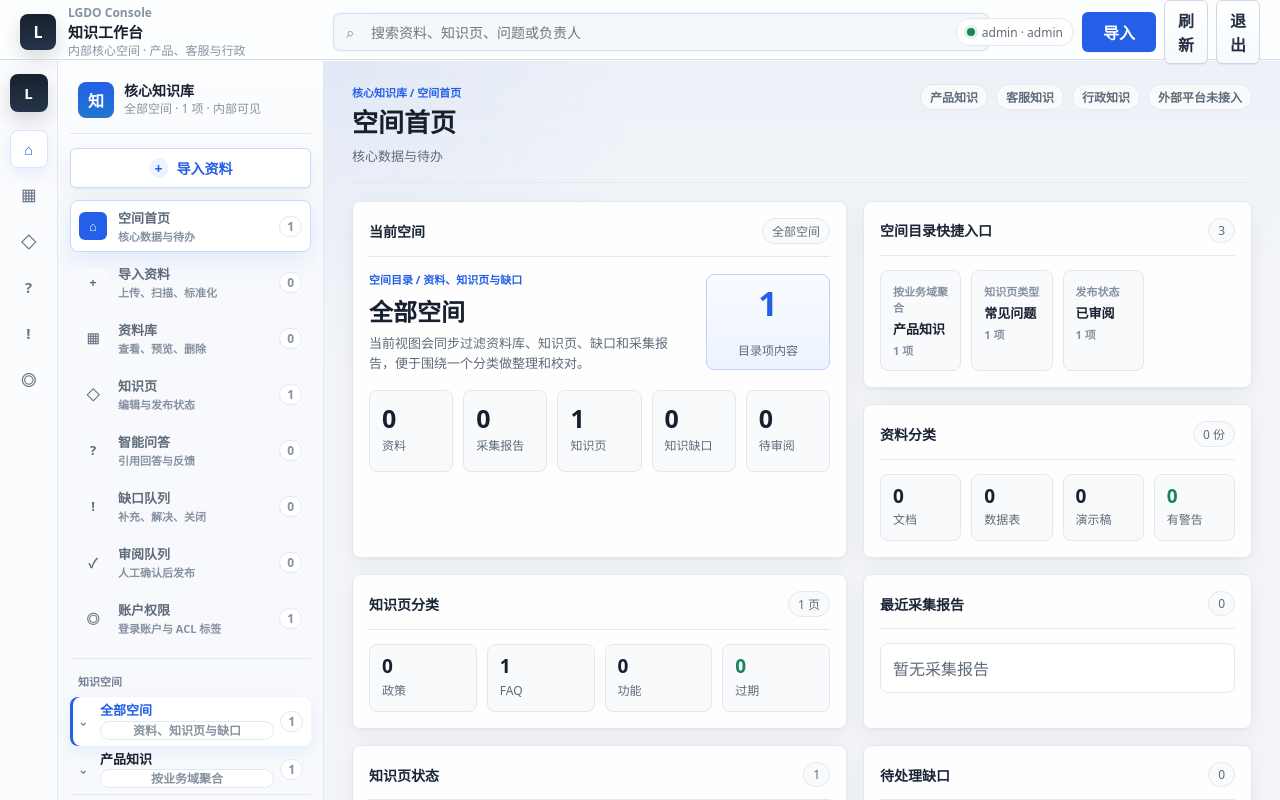
Test: App vault integration › cancels a scheduled reconcile poll on logout
Expected: the text "LGDO Console" is shown, 68,4 -> 152,21
Click the button titled "知识".
click(28, 241)  # box 10,222 -> 48,260
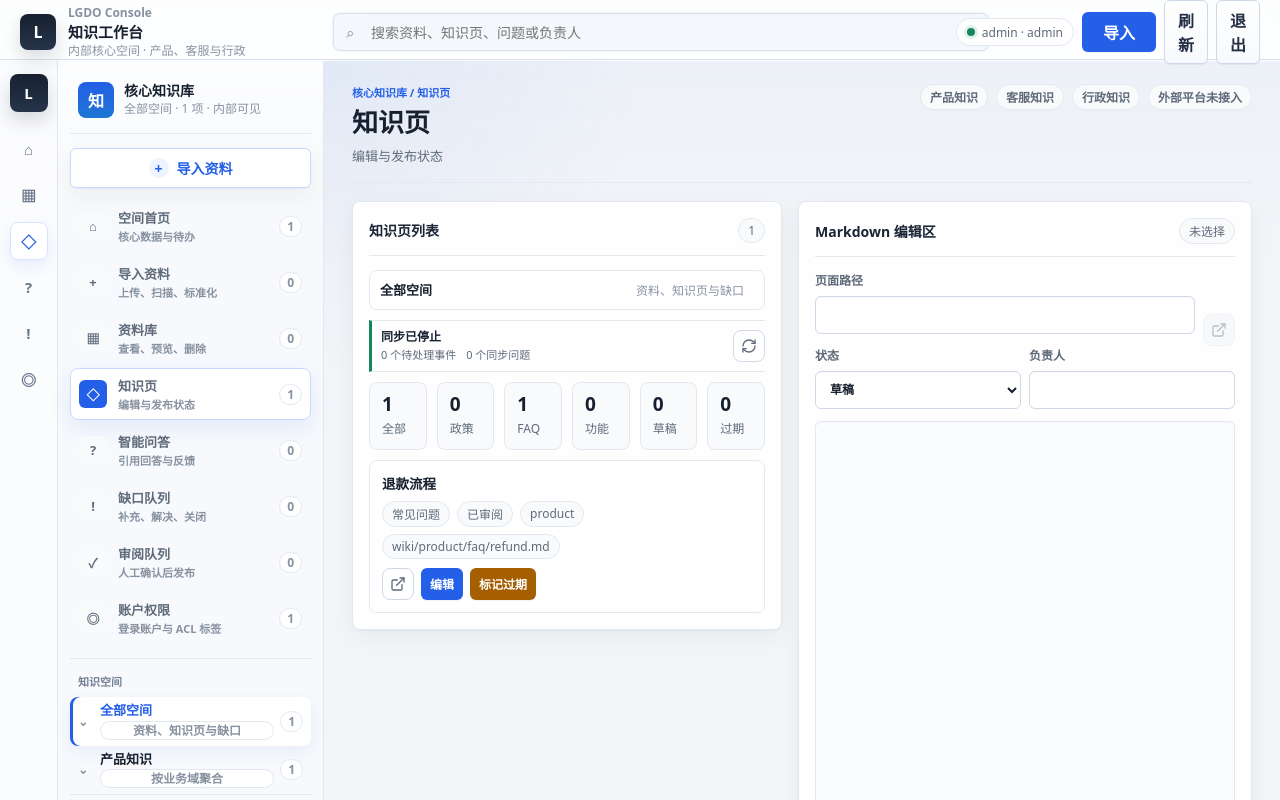
Click the button named "立即对账".
click(749, 346)  # box 733,330 -> 765,362
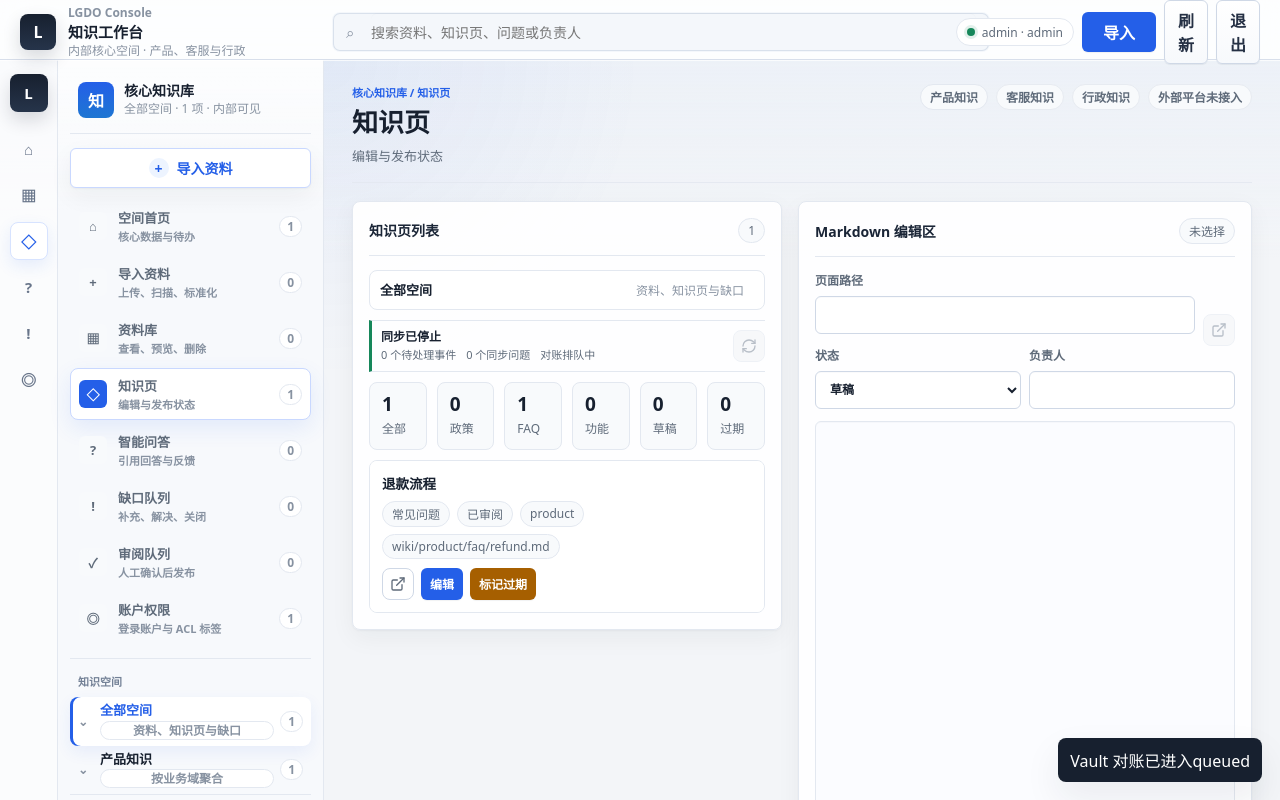
Now the text "对账排队中" is shown, box 540,347 -> 595,363
Click the button "退出".
click(1238, 32)  # box 1216,0 -> 1260,64
Wait 1000 ms
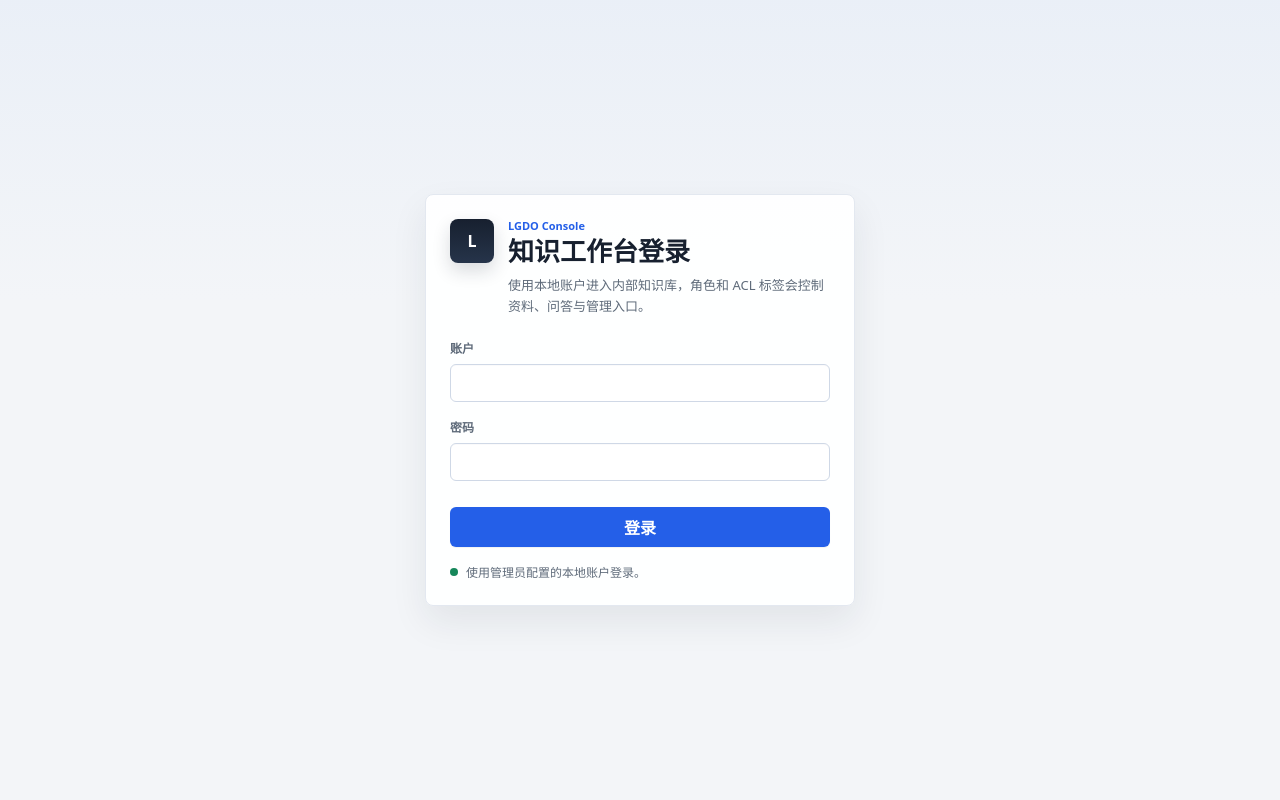
Now the button "登录" is shown, box 450,507 -> 830,547
